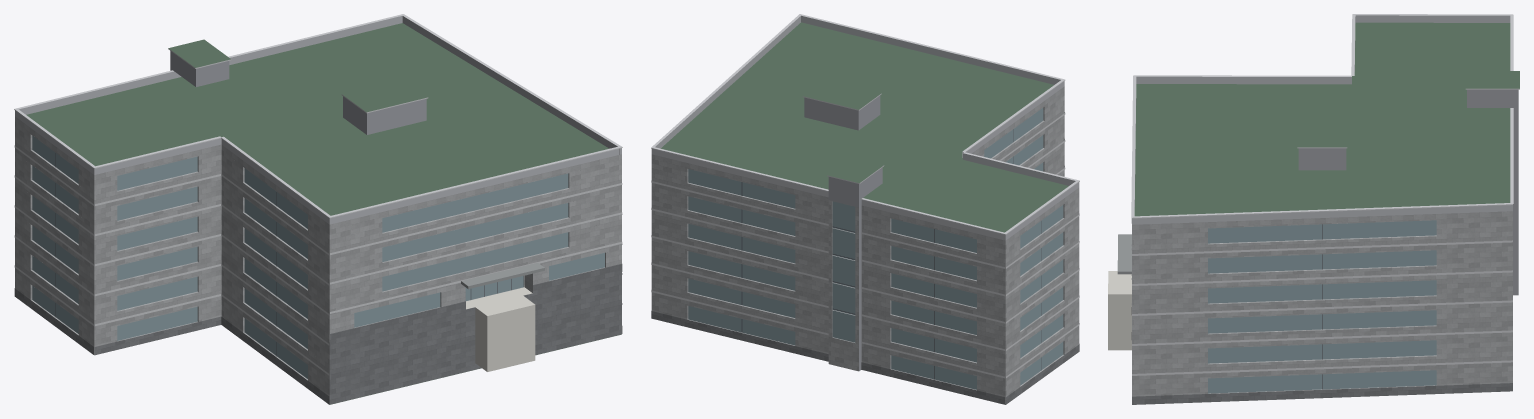
3 renders of one model, left to right at view 1: azimuth 30°, elevation 25°; view 2: azimuth 150°, elevation 25°; view 3: azimuth 270°, elevation 25°, orthographic. The views are drawn at different scales.
Visible parts, largest first — view 1: b125_1_2__wall, b125_1_2__roof, b125_1_2__glass, b125_1_2__base, b125_1_2__trim, b125_1_2__parapet, b125_1_2__entranceStair, b125_1_2__wall2, b125_1_2__canopy; view 2: b125_1_2__wall, b125_1_2__roof, b125_1_2__glass, b125_1_2__trim, b125_1_2__parapet, b125_1_2__base, b125_1_2__wall2, b125_1_2__frame; view 3: b125_1_2__roof, b125_1_2__wall, b125_1_2__glass, b125_1_2__trim, b125_1_2__parapet, b125_1_2__base, b125_1_2__wall2, b125_1_2__entranceStair, b125_1_2__canopy.
Part boxes in pixels (x1,y1,x2,y2): b125_1_2__wall: (15, 116, 621, 404); b125_1_2__roof: (26, 23, 620, 404); b125_1_2__glass: (32, 136, 604, 378); b125_1_2__base: (14, 264, 622, 404); b125_1_2__trim: (14, 14, 622, 375); b125_1_2__parapet: (15, 16, 621, 224); b125_1_2__entranceStair: (466, 287, 535, 371); b125_1_2__wall2: (170, 51, 426, 134); b125_1_2__canopy: (461, 262, 544, 288); b125_1_2__wall: (651, 86, 1079, 404); b125_1_2__roof: (661, 22, 1068, 404); b125_1_2__glass: (688, 108, 1063, 389); b125_1_2__trim: (651, 14, 1079, 378); b125_1_2__parapet: (651, 15, 1079, 240); b125_1_2__base: (651, 311, 1079, 404); b125_1_2__wall2: (804, 95, 882, 371); b125_1_2__frame: (741, 129, 1041, 379); b125_1_2__roof: (1134, 22, 1519, 216); b125_1_2__wall: (1132, 211, 1512, 396); b125_1_2__glass: (1208, 220, 1436, 393); b125_1_2__trim: (1131, 14, 1519, 375); b125_1_2__parapet: (1131, 15, 1512, 224); b125_1_2__base: (1131, 307, 1512, 404); b125_1_2__wall2: (1298, 89, 1518, 295); b125_1_2__entranceStair: (1108, 271, 1131, 350); b125_1_2__canopy: (1117, 234, 1131, 274).
Size of the model in its own units: 52.48 by 24.89 by 44.81.
11 materials, 2 textured.
